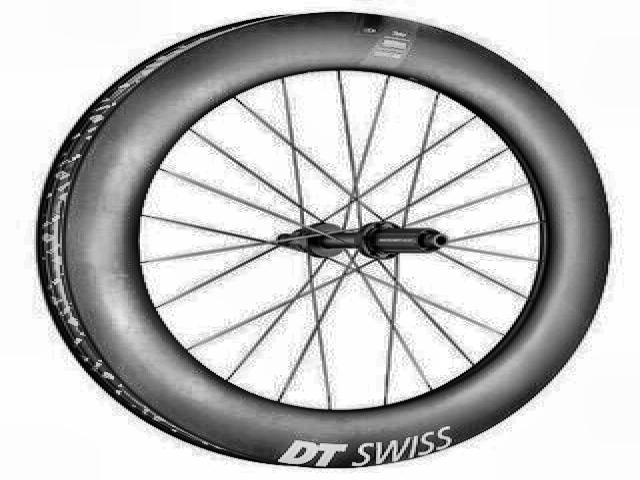wheel: (32, 3, 619, 470)
